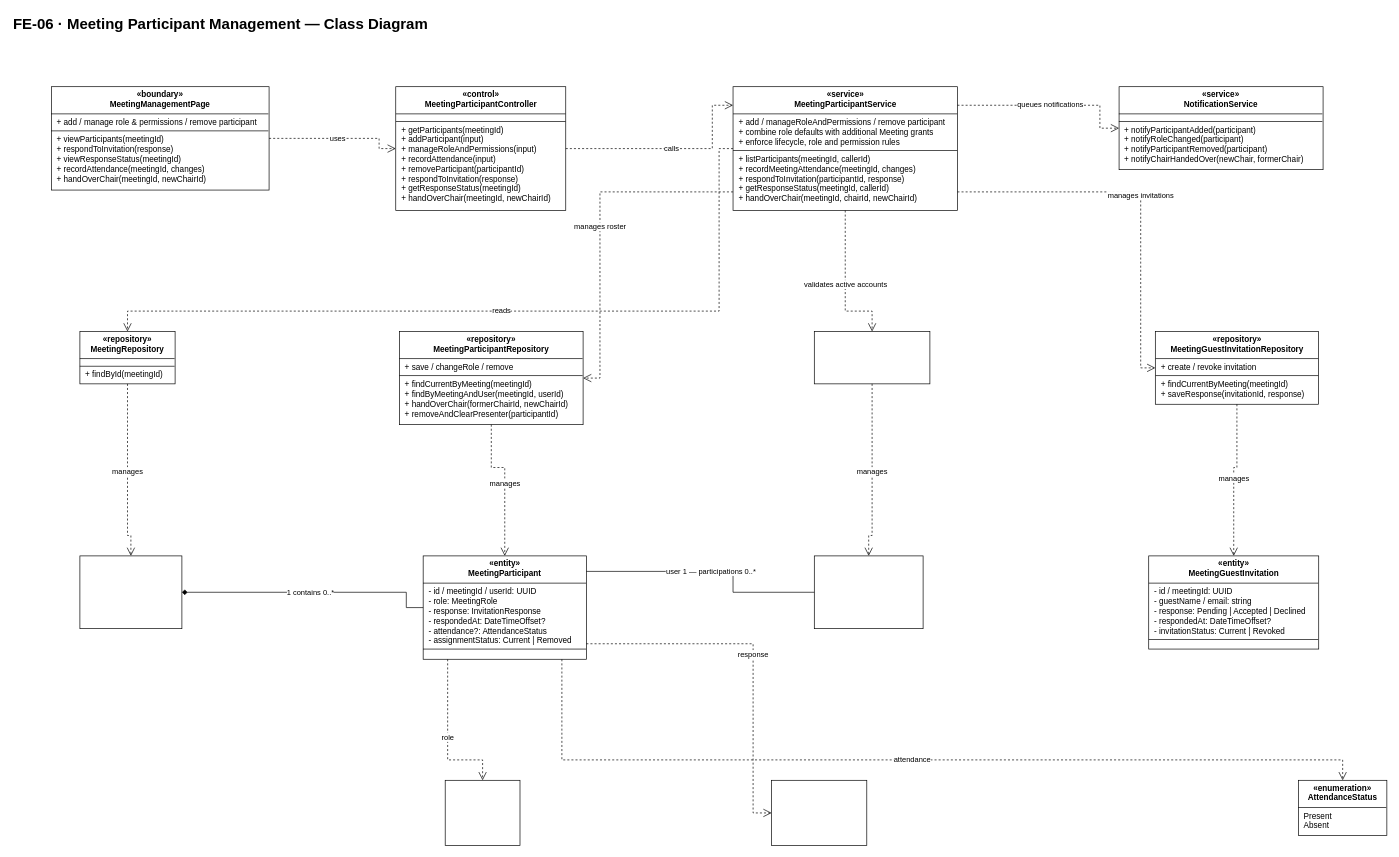
Some shapes in this 1399 by 857 pixel diagram are drawn without their labels. Each missing label, with the centre of its shape:
"«entity» Meeting - id: UUID - title: string - status: MeetingStatus" belongs at (130,592).
"«entity» User - id: UUID - fullName / email: string - isActive: bool" belongs at (868,592).
"«enumeration» InvitationResponse Pending Accepted Declined" belongs at (819,813).
"«enumeration» MeetingRole Chair Secretary Member" belongs at (482,813).
"«repository» UserRepository + findActiveByIds(userIds)" belongs at (872,357).
